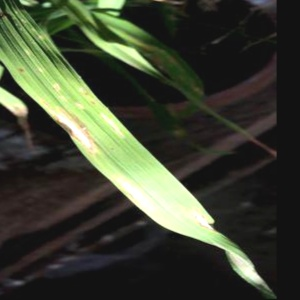Brown_Spot: (45, 99, 101, 152)
